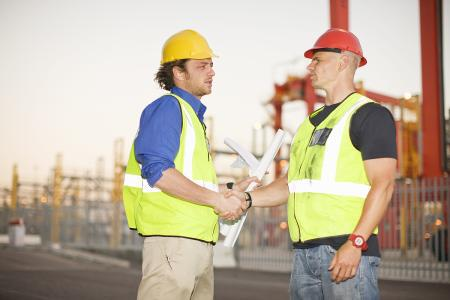helmet: (291, 20, 377, 101), (157, 24, 223, 97)
